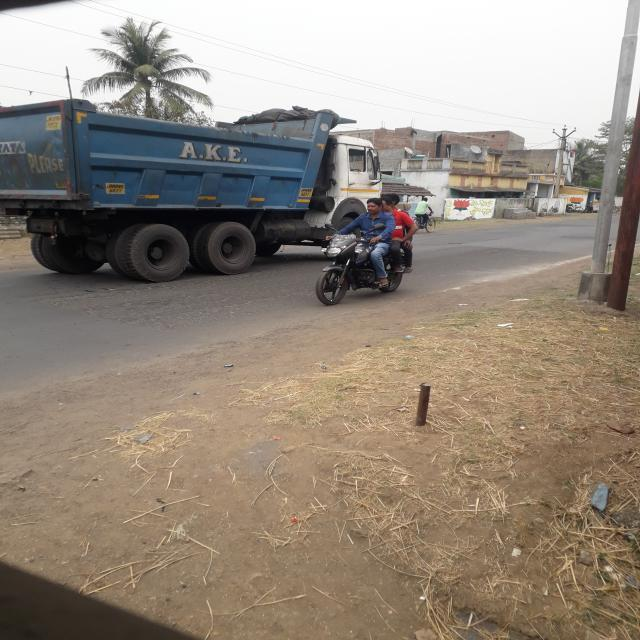truck_back: (0, 91, 400, 288)
two_wheeler_front: (310, 226, 418, 310)
